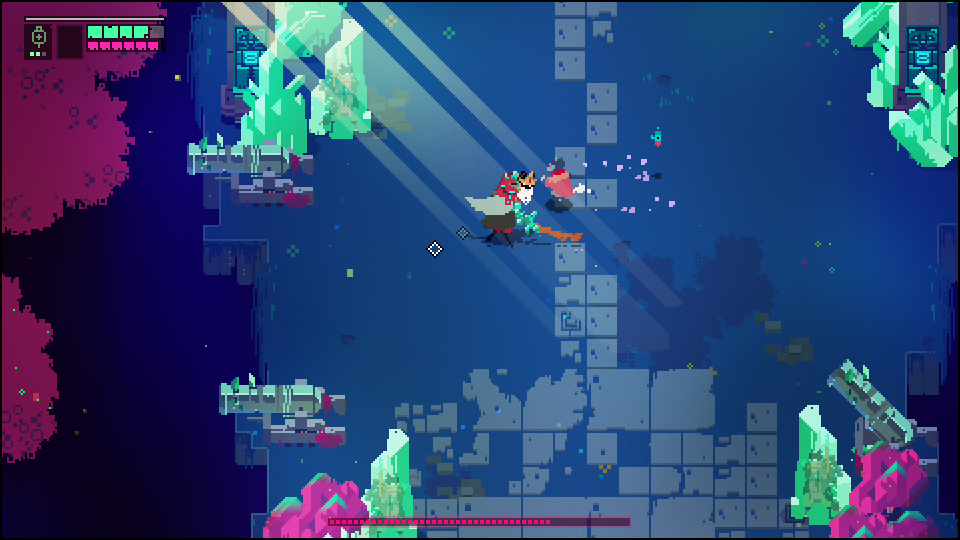hanged_man: (462, 165, 546, 245)
player: (545, 159, 575, 209)
